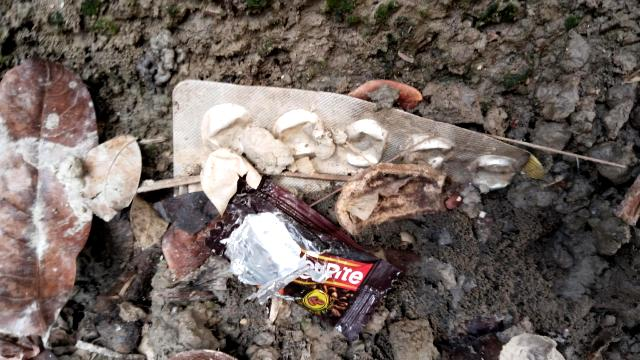medicine: (152, 77, 536, 267)
